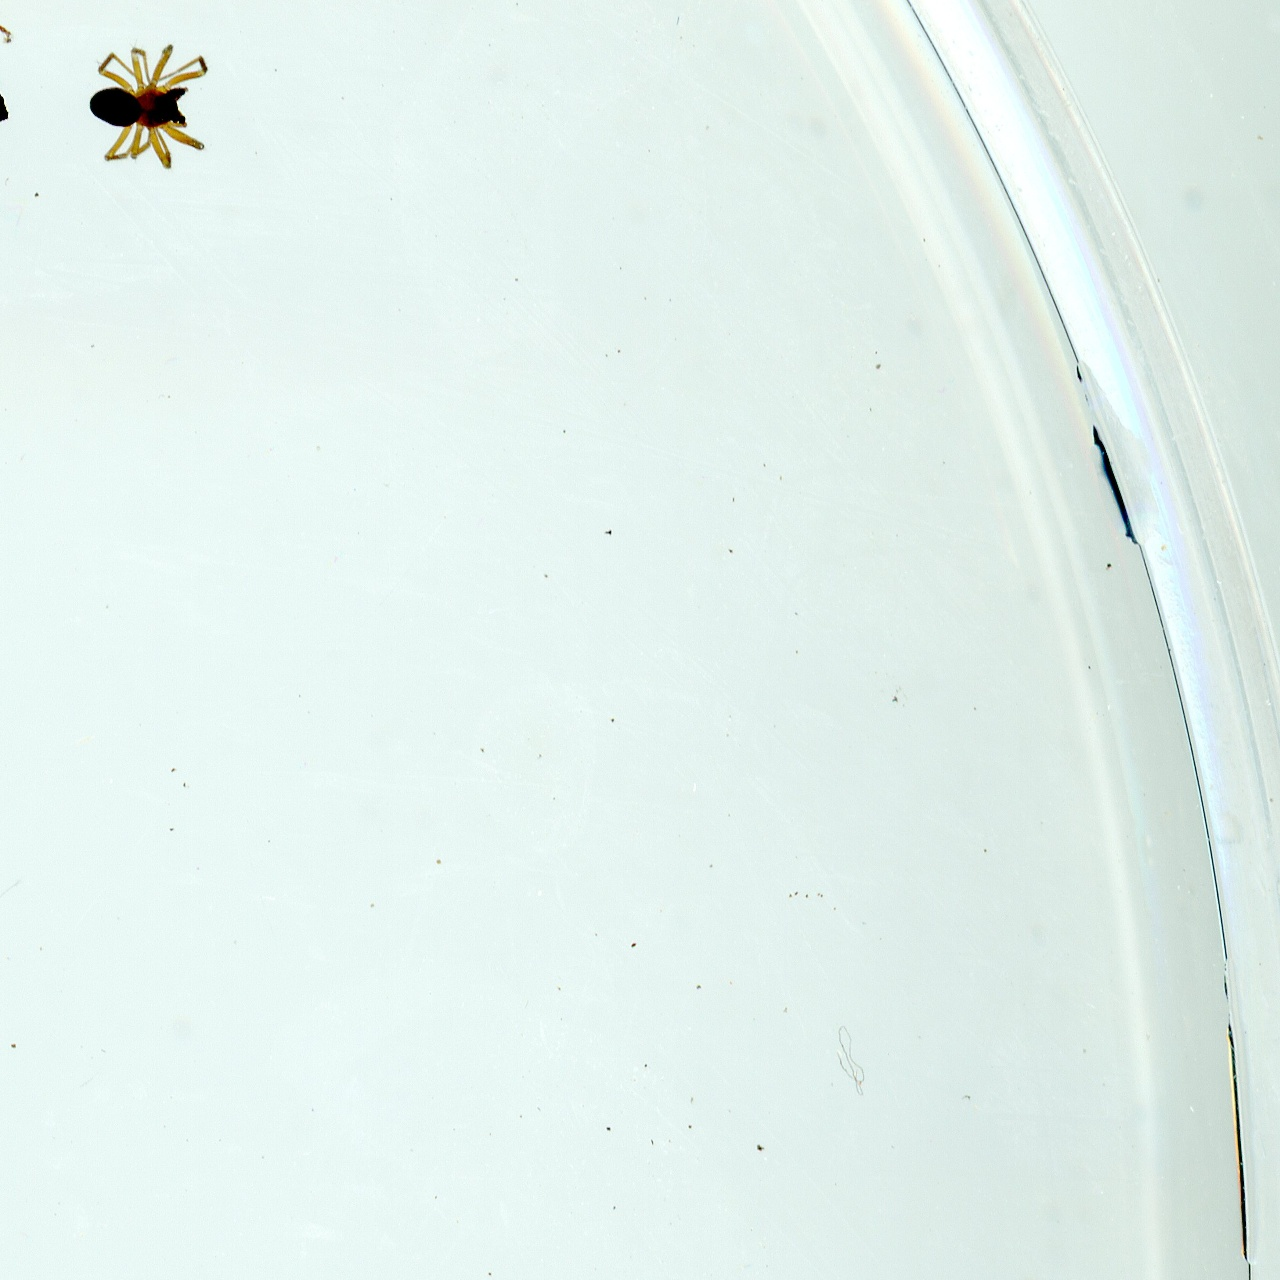arthropod: (82, 36, 213, 176)
